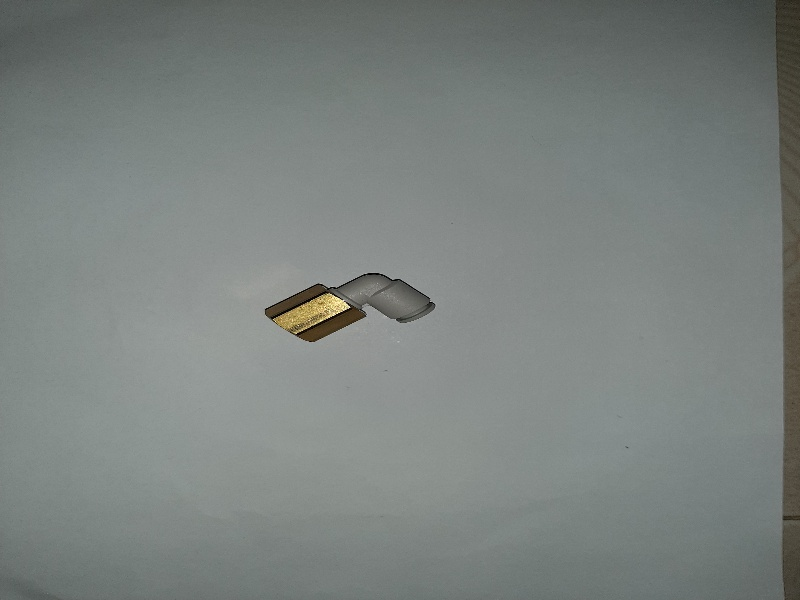Connector: (263, 259, 443, 347)
